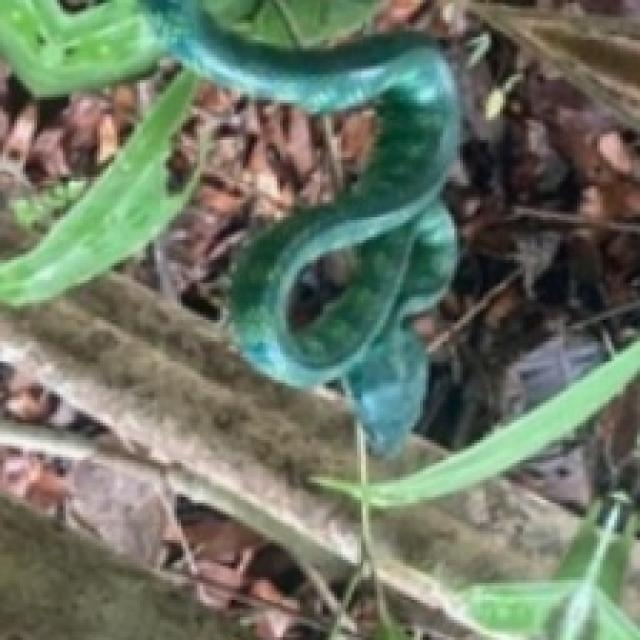north ph temple pitviper: (0, 0, 457, 454), (0, 71, 191, 303)
